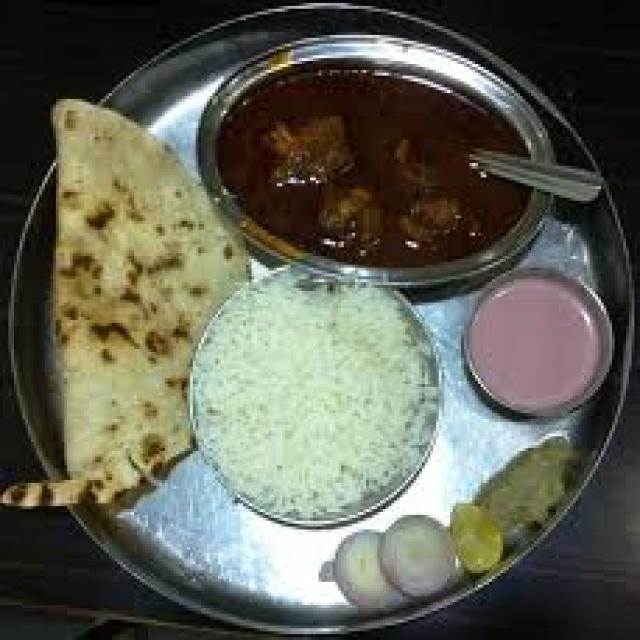ROTI: (50, 99, 246, 500)
